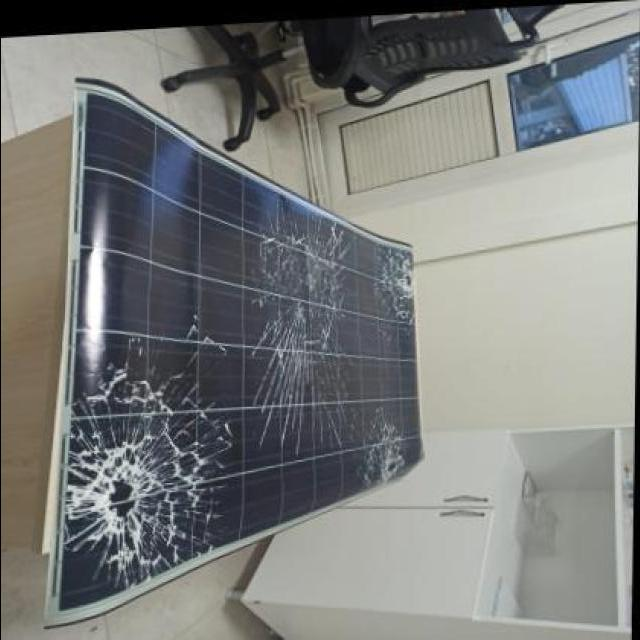cracked: (38, 111, 418, 619)
